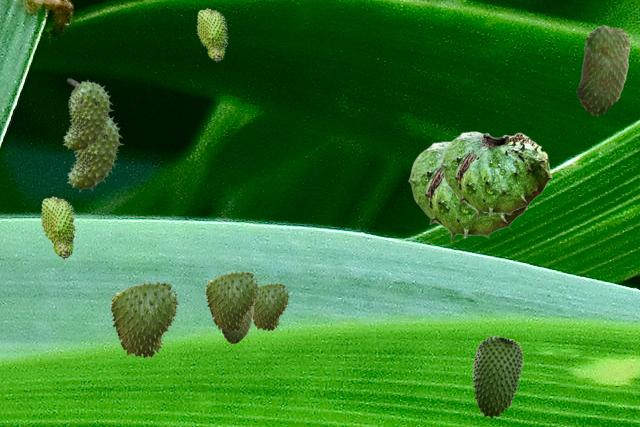guyabano: (408, 141, 527, 241), (440, 131, 551, 218), (110, 280, 179, 359), (576, 24, 630, 115), (66, 116, 123, 191), (472, 335, 522, 418), (62, 78, 113, 152), (205, 270, 259, 332), (40, 196, 76, 258), (253, 282, 289, 331), (196, 8, 227, 61), (221, 307, 254, 343)
